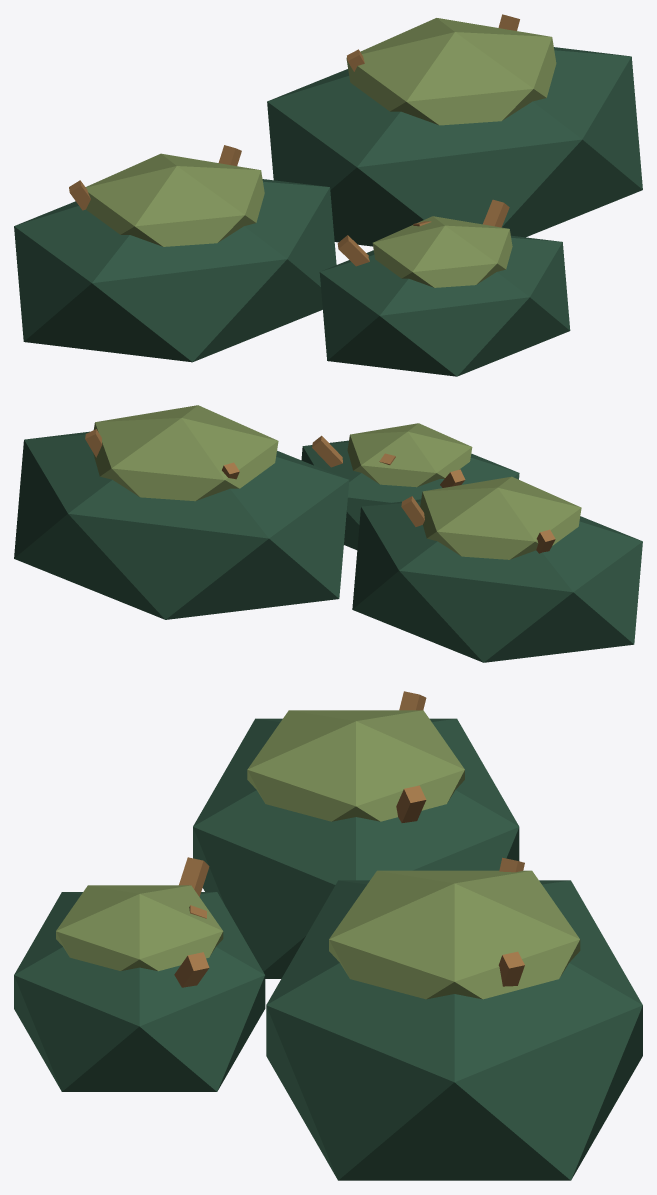
File: Desert_DryBrushCluster_Showcase.glb
3 renders of one model, top to bottom at view 1: azimuth 30°, elevation 25°; view 2: azimuth 150°, elevation 25°; view 3: azimuth 270°, elevation 25°, orthographic. The views are drawn at different scales.
Visible parts, largest first — view 1: Desert_DryBrushCluster_Showcase; view 2: Desert_DryBrushCluster_Showcase; view 3: Desert_DryBrushCluster_Showcase.
Boxes of the visible parts, x1,y1,x2,y2 form: Desert_DryBrushCluster_Showcase: [14, 14, 642, 376]; Desert_DryBrushCluster_Showcase: [14, 405, 642, 662]; Desert_DryBrushCluster_Showcase: [14, 691, 642, 1180].
Bounding box in the file's own units: 2.45 × 0.7875 × 1.6.
